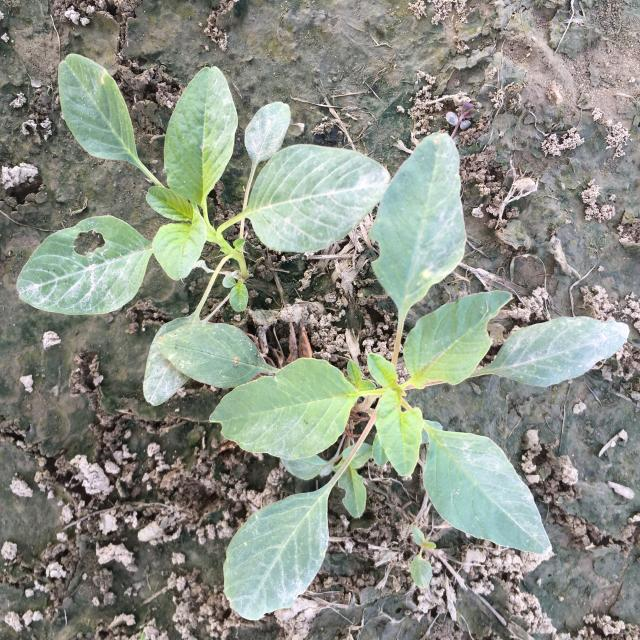PalmerAmaranth: (156, 133, 630, 621), (16, 53, 392, 406), (409, 524, 437, 589)
